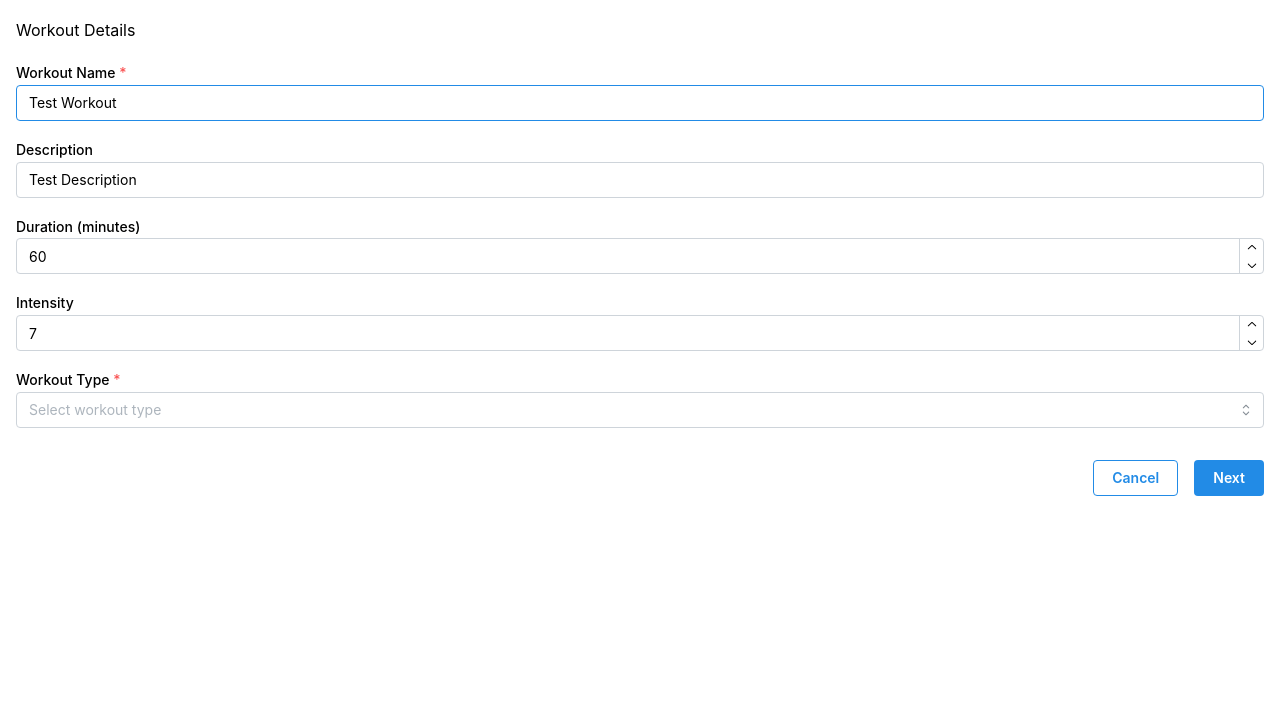
WorkoutModal › renders exercises correctly in edit mode
Click the button with test id "edit-next-button". click: (1229, 478)
box: [1194,460,1264,496]
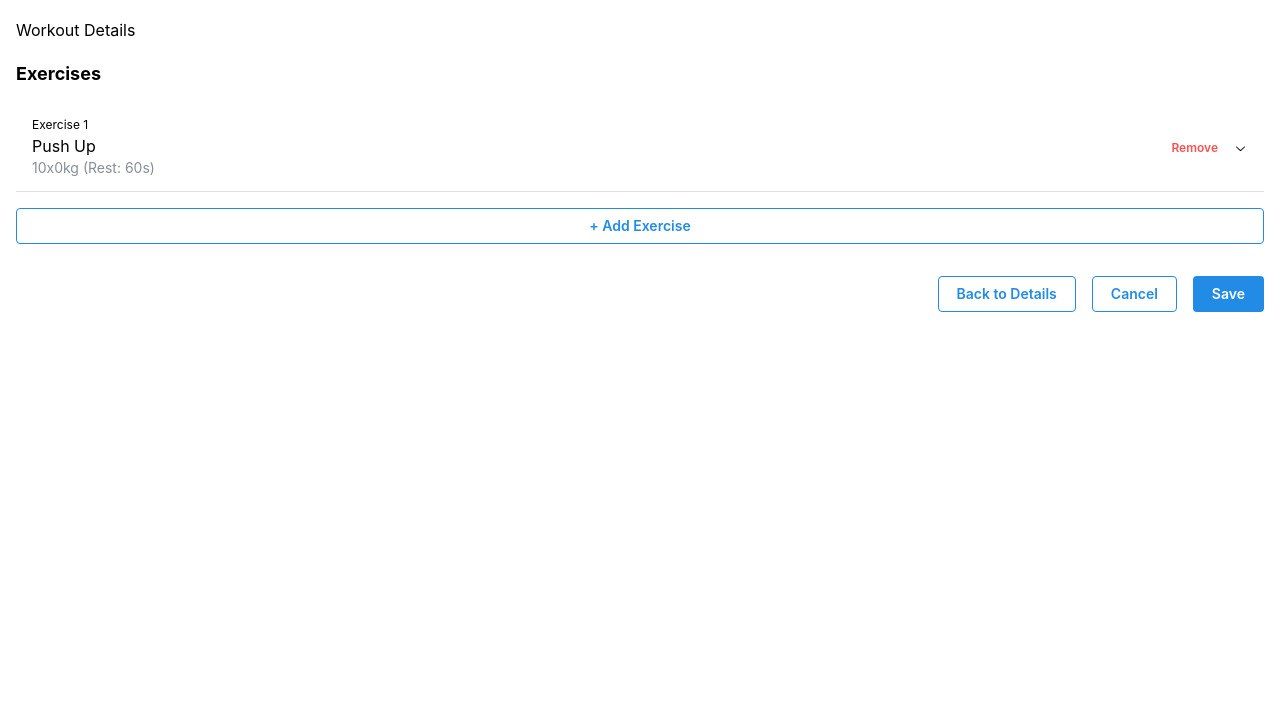
Result: the text with test id "accordion-item-exercise-name-0" reads "Push Up" at [32,136,96,156]
Result: the text "10x0kg (Rest: 60s)" is shown at [32,158,155,179]
